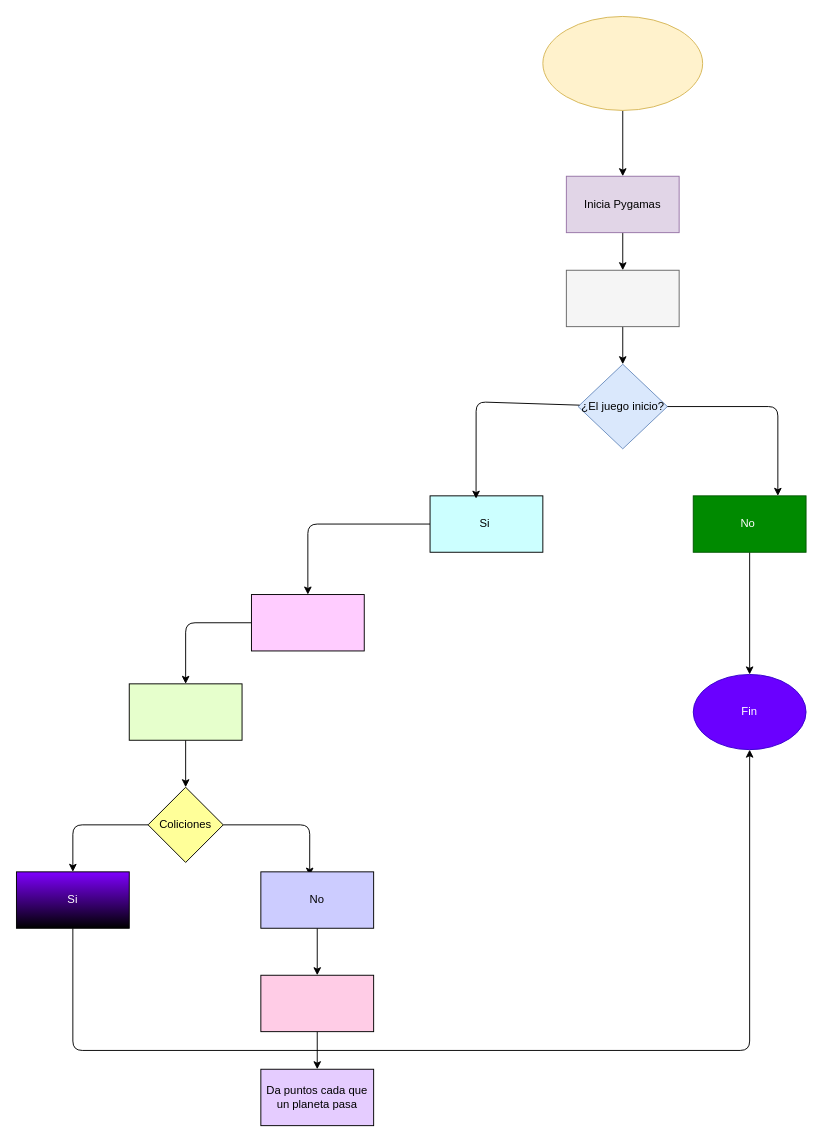
This 823x1142 diagram has some shape labels left out. Here are the shapes that lost their labels. From the top down, the centre of each, then its label:
the point at 622,63: Inicio
the point at 622,298: Cargan las imagenes
the point at 307,622: Cambia la posicion del cohete
the point at 185,711: Mover planetas hacia abajo
the point at 317,1003: Sigue
